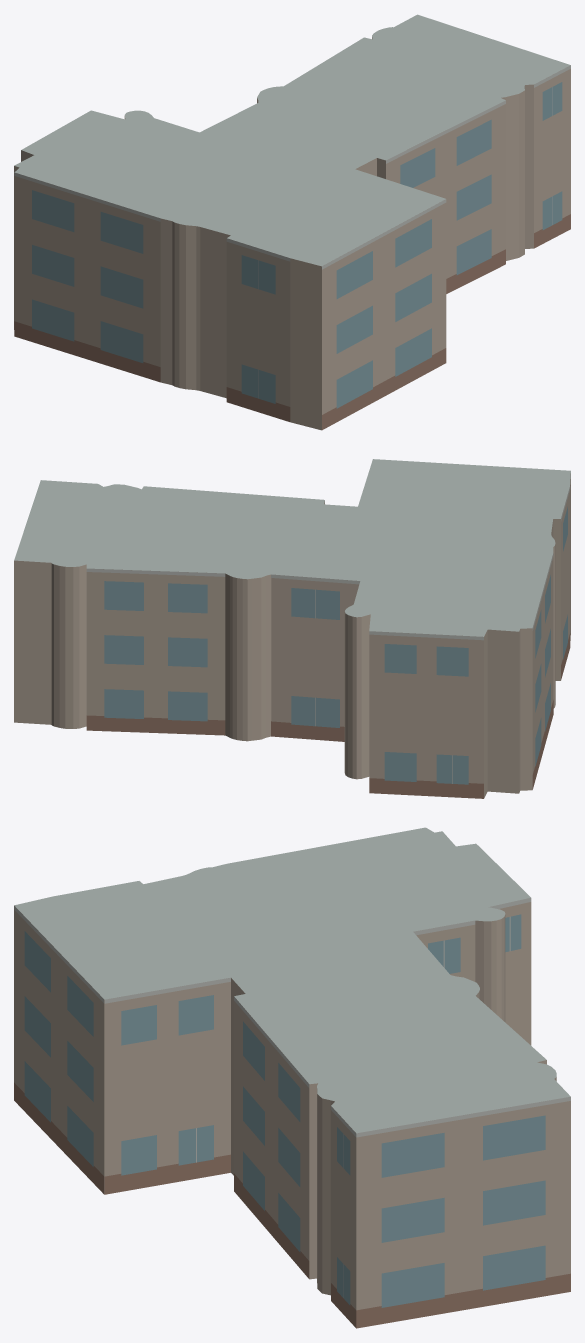
File: survey-upis-33037683.glb
3 views of the same model, one above another, from view 1: azimuth 30°, elevation 25°; view 2: azimuth 150°, elevation 25°; view 3: azimuth 270°, elevation 25° (orthographic). The views are drawn at different scales.
Parts seen in each view (by area): view 1: survey-upis-33037683.tmp; view 2: survey-upis-33037683.tmp; view 3: survey-upis-33037683.tmp.
Part boxes in pixels (left/top/right/bottom): survey-upis-33037683.tmp: left=14, top=14, right=570, bottom=430; survey-upis-33037683.tmp: left=14, top=459, right=570, bottom=798; survey-upis-33037683.tmp: left=14, top=827, right=570, bottom=1328.
Bounding box in the file's own units: 38.68 × 11.5 × 29.76.
